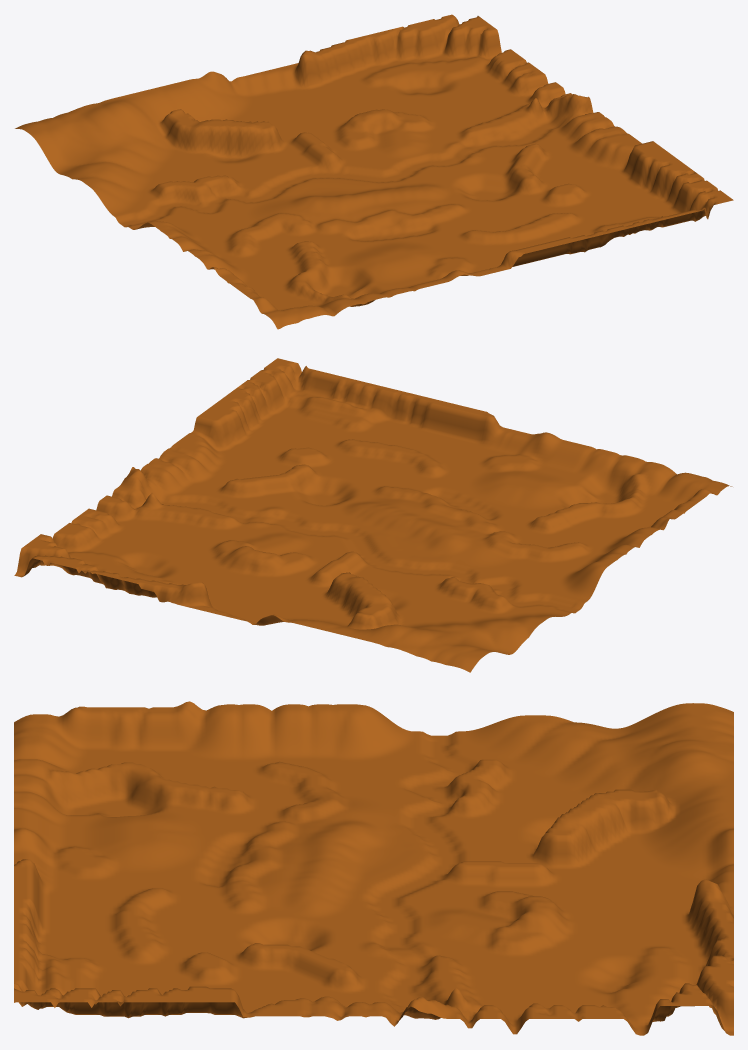
The picture shows the model from 3 angles, top to bottom: view 1: azimuth 30°, elevation 25°; view 2: azimuth 150°, elevation 25°; view 3: azimuth 270°, elevation 25°; orthographic projection. The views are drawn at different scales.
Visible parts, largest first — view 1: Scene; view 2: Scene; view 3: Scene.
Boxes of the visible parts, x1,y1,x2,y2 form: Scene: (15, 14, 733, 329); Scene: (14, 358, 732, 672); Scene: (14, 701, 733, 1035).
Bounding box in the file's own units: 24342 × 1945 × 24342.
